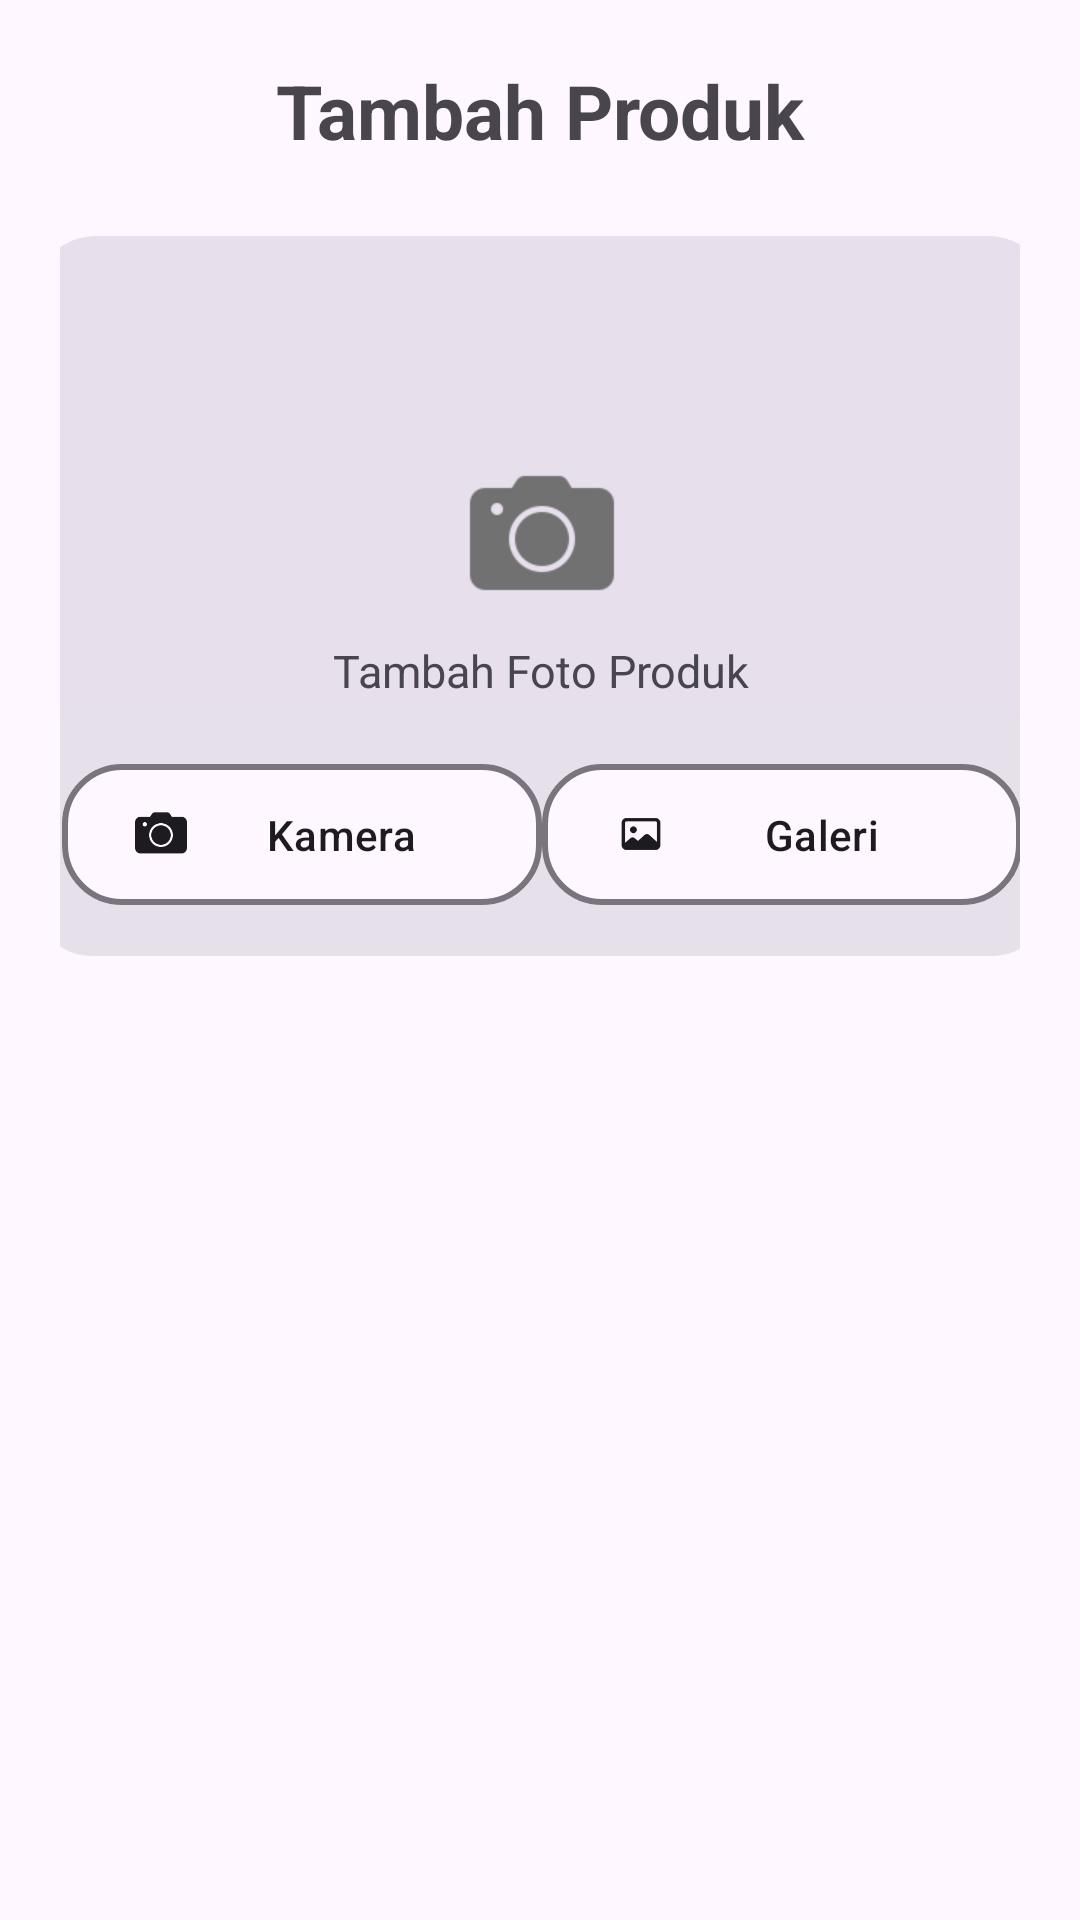

Screen size 1080×1920. Icon name, then its center in pixels as point (x, y):
camera: point (542, 533)
